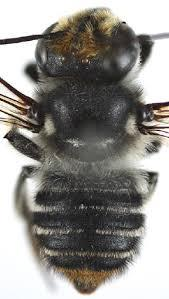Braunsapis: (2, 1, 167, 299)
